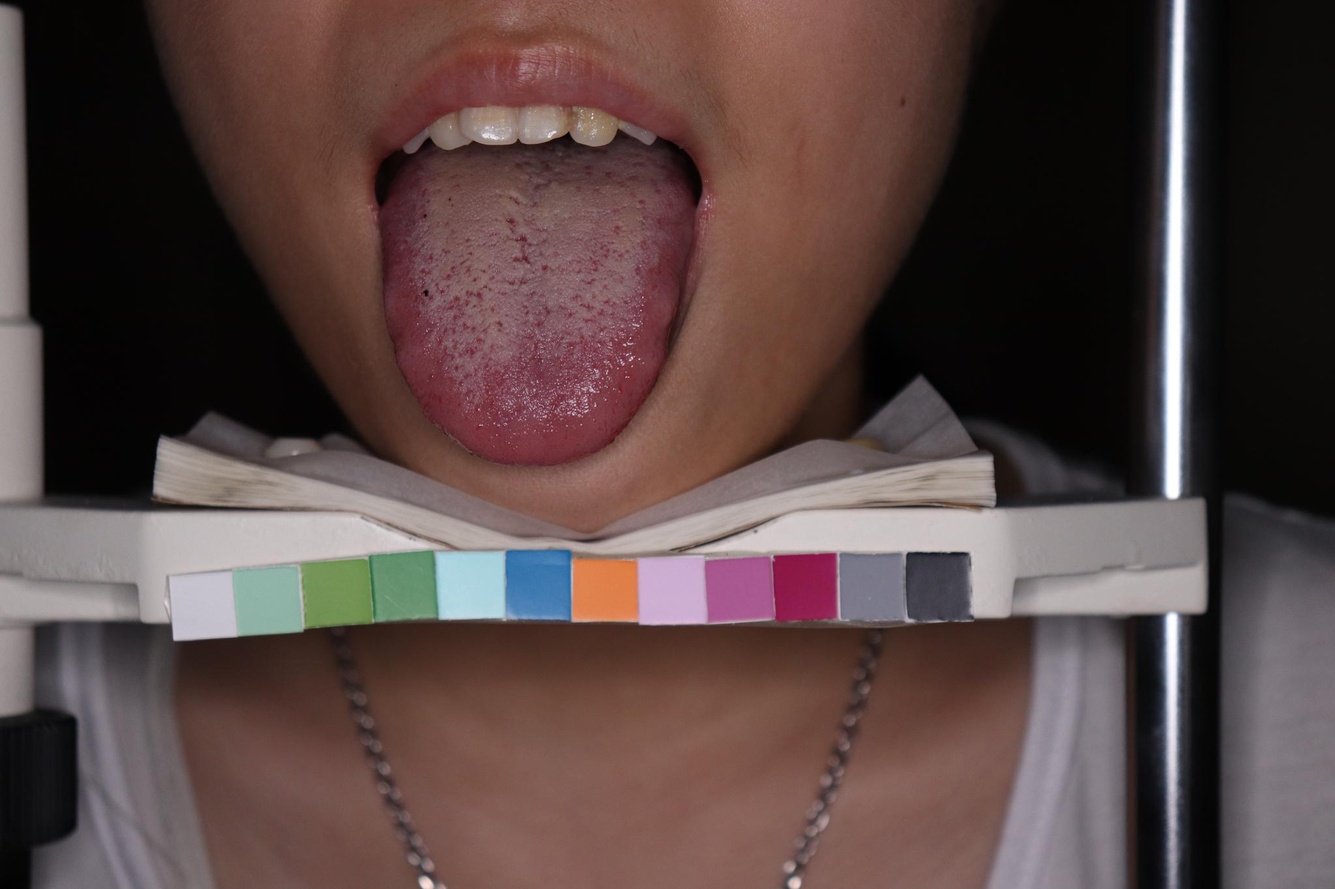hongdianshe: (474, 421, 482, 431), (426, 371, 434, 379), (616, 384, 623, 393)
hongshe: (378, 140, 694, 466)
huangtaishe: (379, 139, 694, 466)
